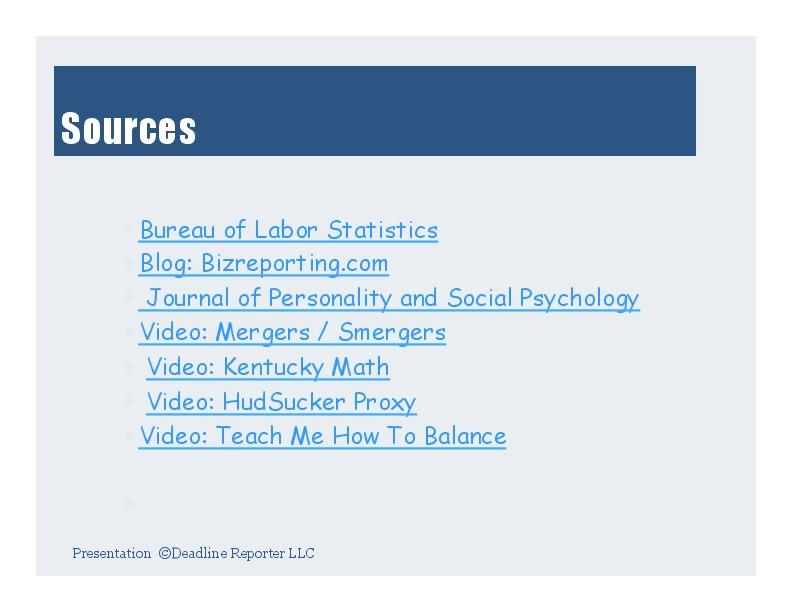paragraph: (117, 178, 697, 483)
title: (59, 101, 215, 155)
